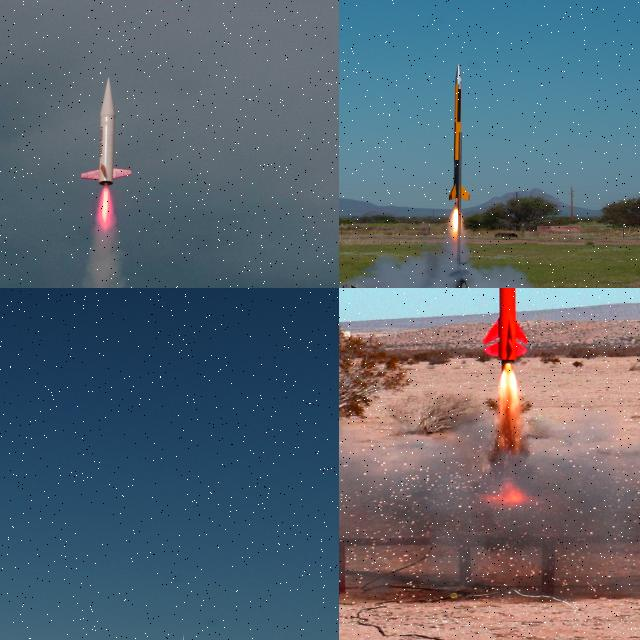Rocket: (81, 77, 133, 187), (480, 288, 530, 362), (447, 63, 472, 203)
